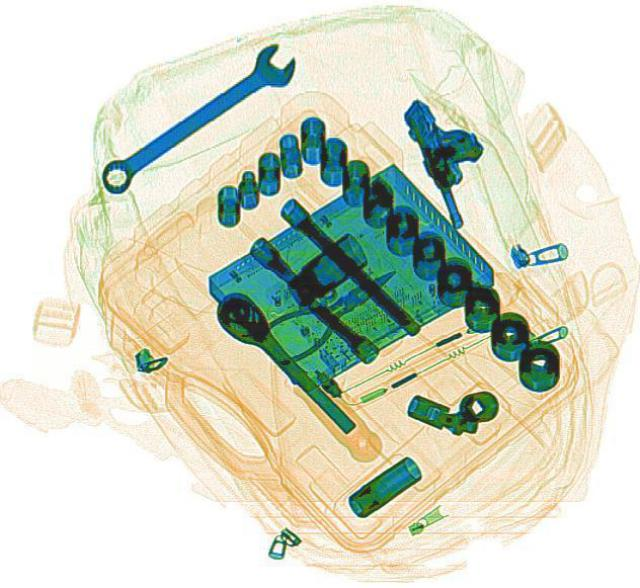Gun: (394, 85, 510, 230)
Pliers: (252, 254, 411, 368)
Wrench: (88, 36, 306, 203)
